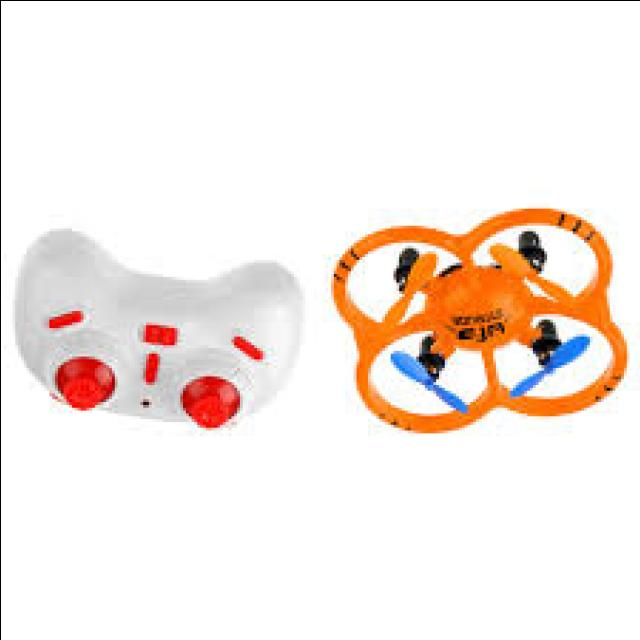drone: (303, 185, 640, 464)
